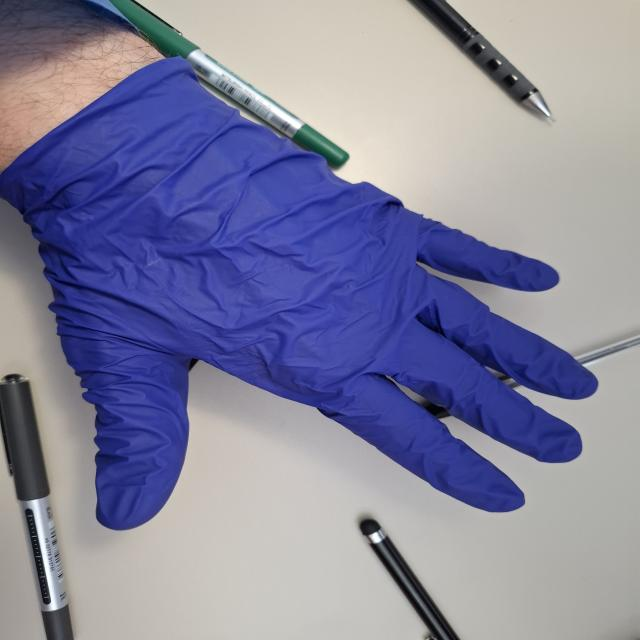glove_on: (1, 52, 605, 533)
